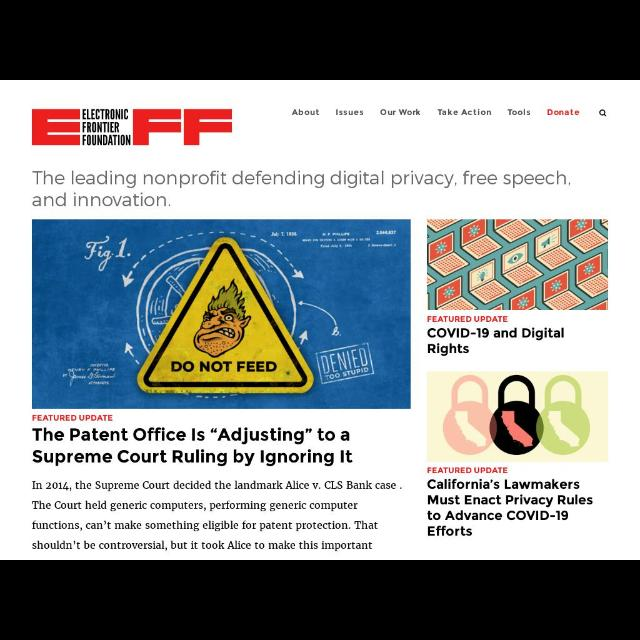icon: (598, 110, 608, 118)
image: (32, 220, 410, 410), (426, 372, 612, 470), (427, 218, 608, 310), (31, 108, 232, 146)
multitab: (291, 106, 583, 124)
text: (31, 482, 396, 552), (33, 170, 570, 208), (32, 426, 352, 466), (426, 479, 592, 537), (428, 328, 564, 357), (425, 466, 507, 474), (32, 414, 112, 422), (428, 315, 507, 323), (438, 107, 490, 117), (379, 109, 421, 117), (546, 106, 580, 115), (334, 108, 364, 118), (292, 109, 321, 117), (507, 109, 529, 118)
